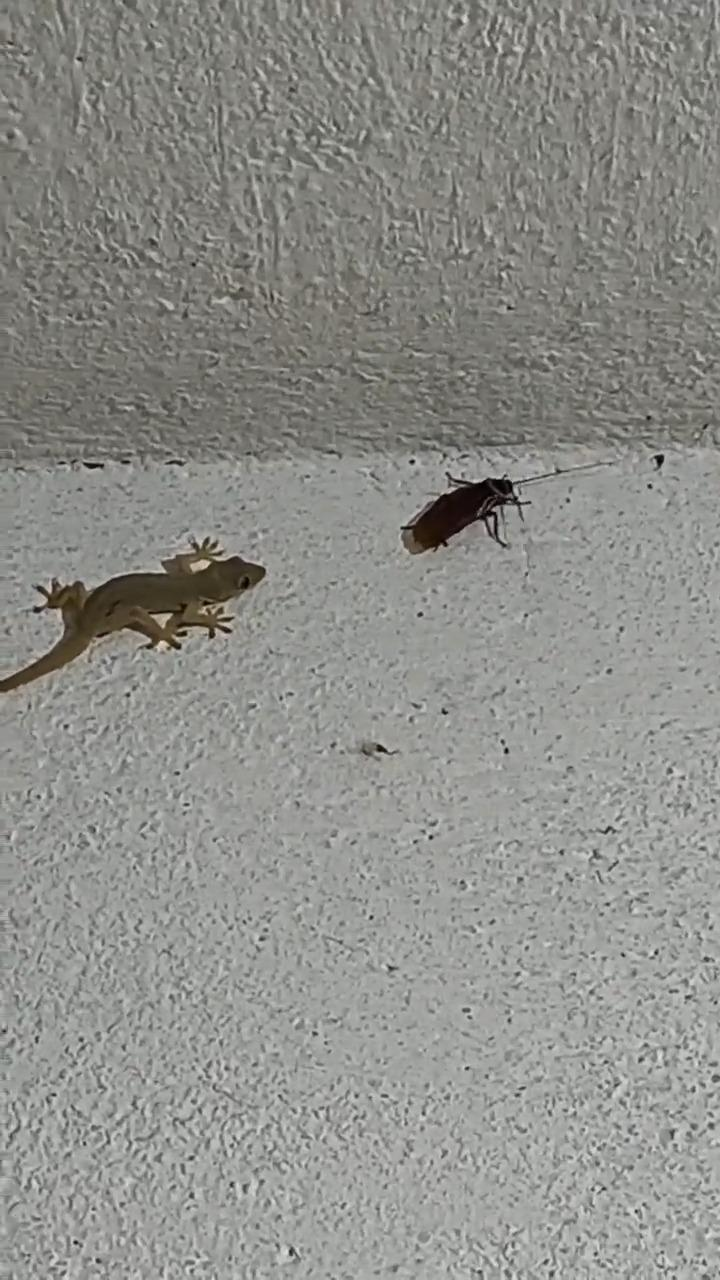cockroach: (396, 465, 579, 570)
lizard: (0, 505, 273, 690)
